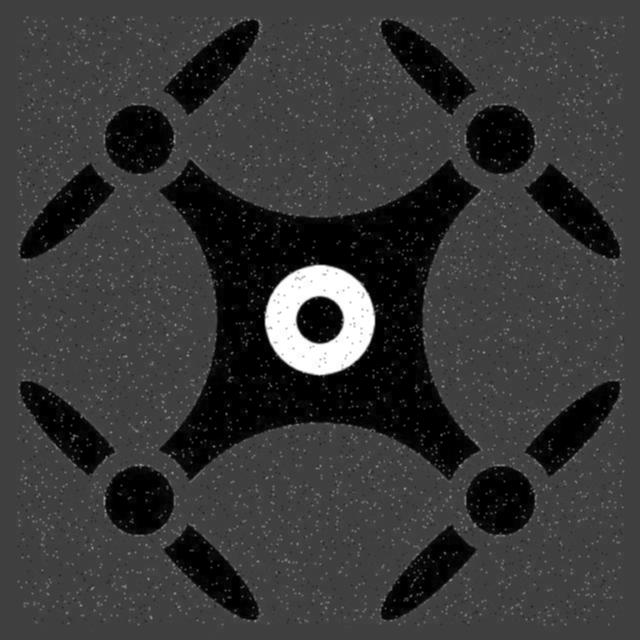drone: (19, 18, 625, 626)
